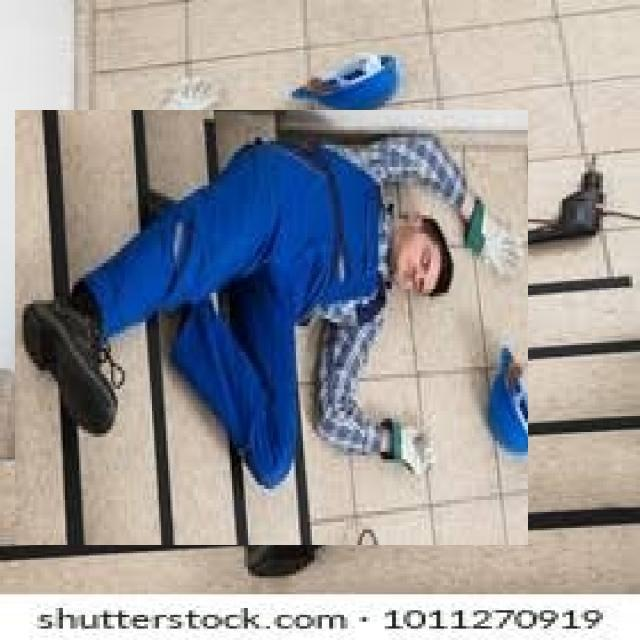Fall: (10, 108, 519, 550)
